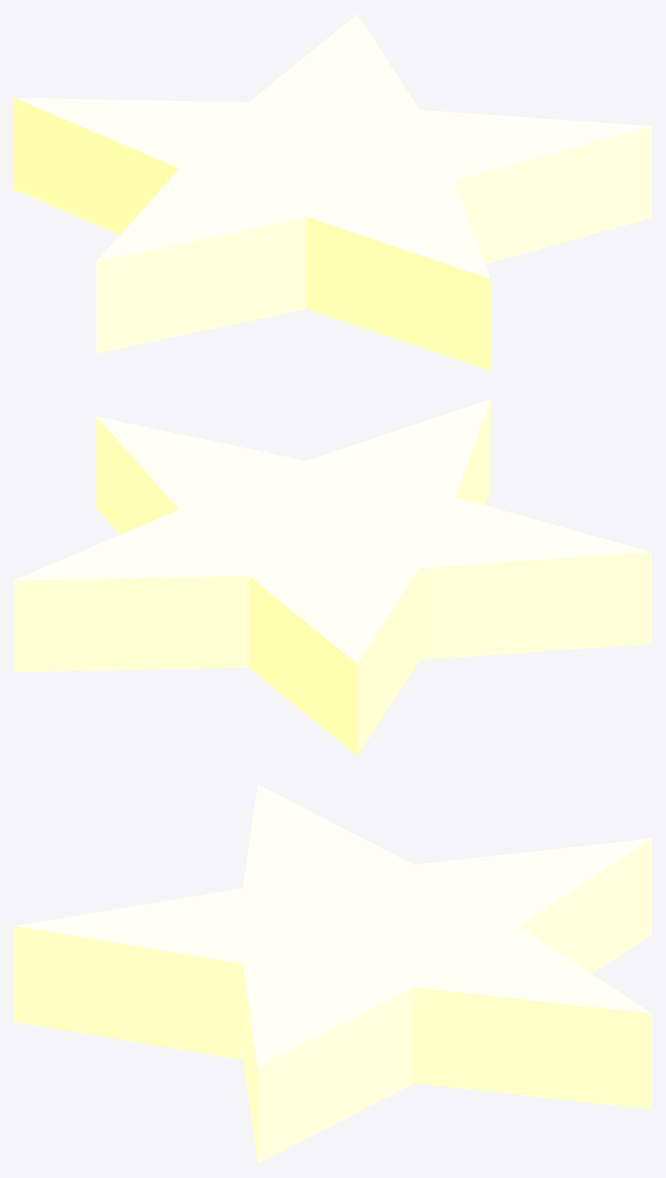
The model's file is GoldStar_Bonus.glb.
3 views of the same model, one above another, from view 1: azimuth 30°, elevation 25°; view 2: azimuth 150°, elevation 25°; view 3: azimuth 270°, elevation 25° (orthographic). The views are drawn at different scales.
Parts seen in each view (by area): view 1: GoldStar_Bonus; view 2: GoldStar_Bonus; view 3: GoldStar_Bonus.
Boxes of the visible parts, x1,y1,x2,y2 form: GoldStar_Bonus: (14, 14, 651, 370); GoldStar_Bonus: (14, 399, 651, 755); GoldStar_Bonus: (14, 784, 651, 1163).
Size of the model in its own units: 0.5706 by 0.09 by 0.5427.
